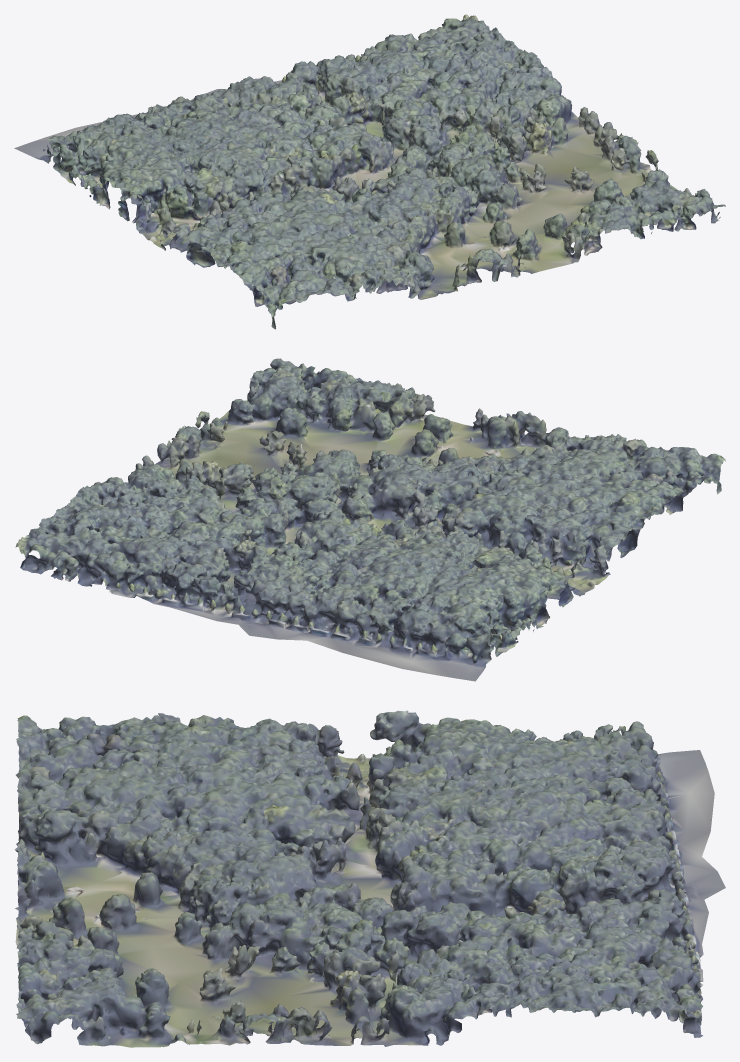
File: surface-detail-3894_58193.glb
3 views of the same model, one above another, from view 1: azimuth 30°, elevation 25°; view 2: azimuth 150°, elevation 25°; view 3: azimuth 270°, elevation 25° (orthographic). The views are drawn at different scales.
Parts seen in each view (by area): view 1: world; view 2: world; view 3: world.
Boxes of the visible parts, x1,y1,x2,y2 form: world: [14, 14, 725, 329]; world: [15, 358, 725, 681]; world: [14, 710, 725, 1047].
Size of the model in its own units: 372 by 30.75 by 376.
